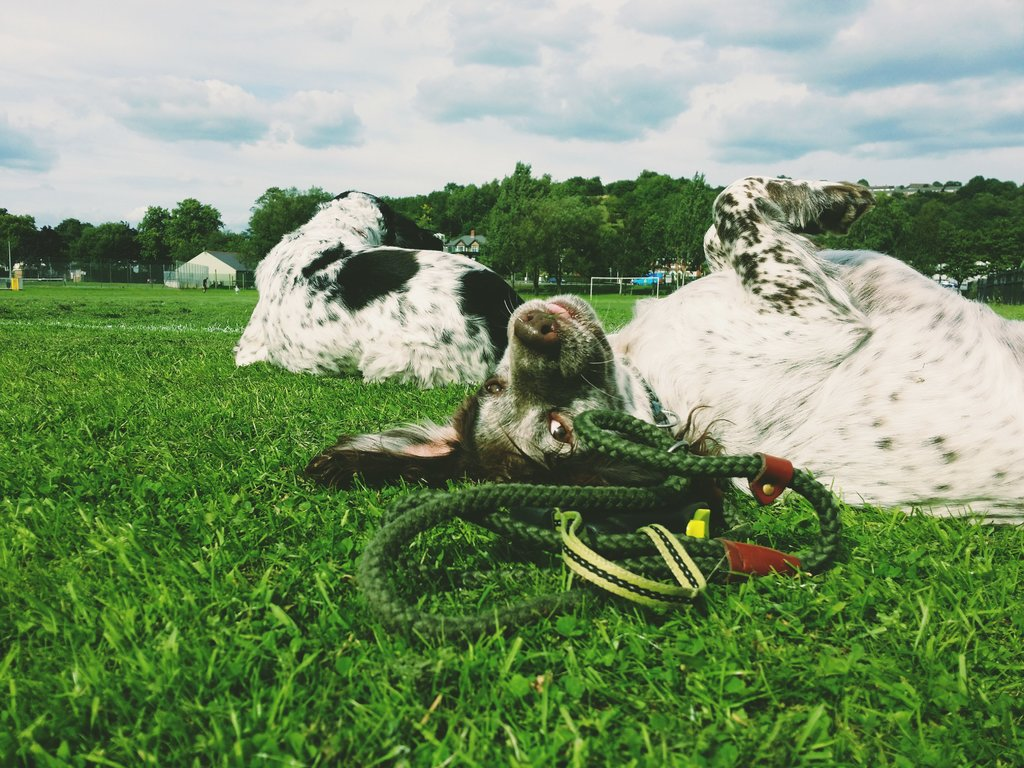Animal: (293, 170, 1022, 534), (226, 182, 529, 389)
